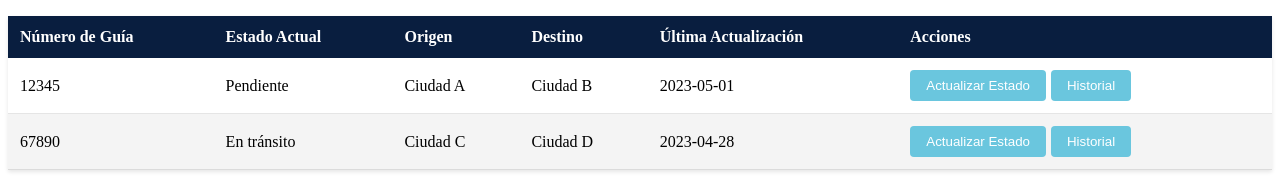
Test: GuideList Component › Actualiza el estado de una guía al hacer clic en 'Actualizar Estado'
The width and height of the screenshot is (1280, 189).
Click the button "Actualizar Estado" in the row of "12345". click: click(978, 86)
box: left=910, top=70, right=1046, bottom=101
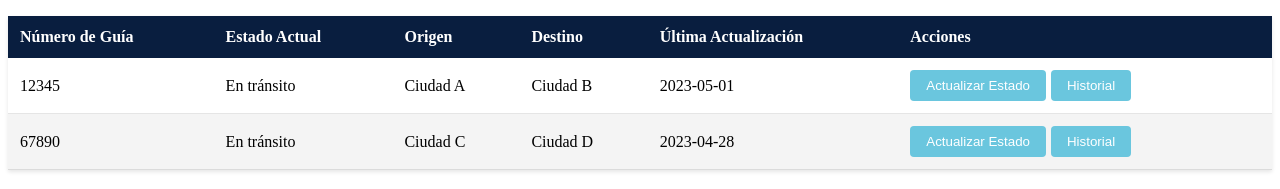
Expected: the cell "En tránsito" next to "12345" is shown, left=226, top=76, right=295, bottom=94
